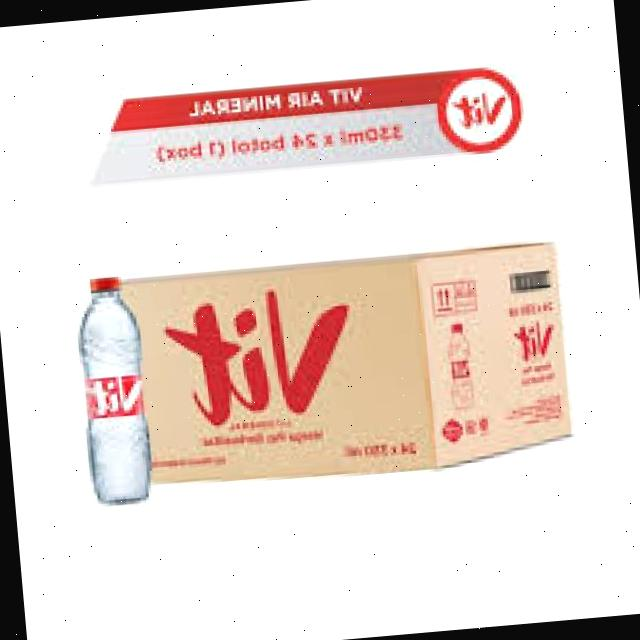bottle: (66, 274, 157, 510)
cap: (82, 269, 124, 297)
label: (74, 373, 145, 417)
